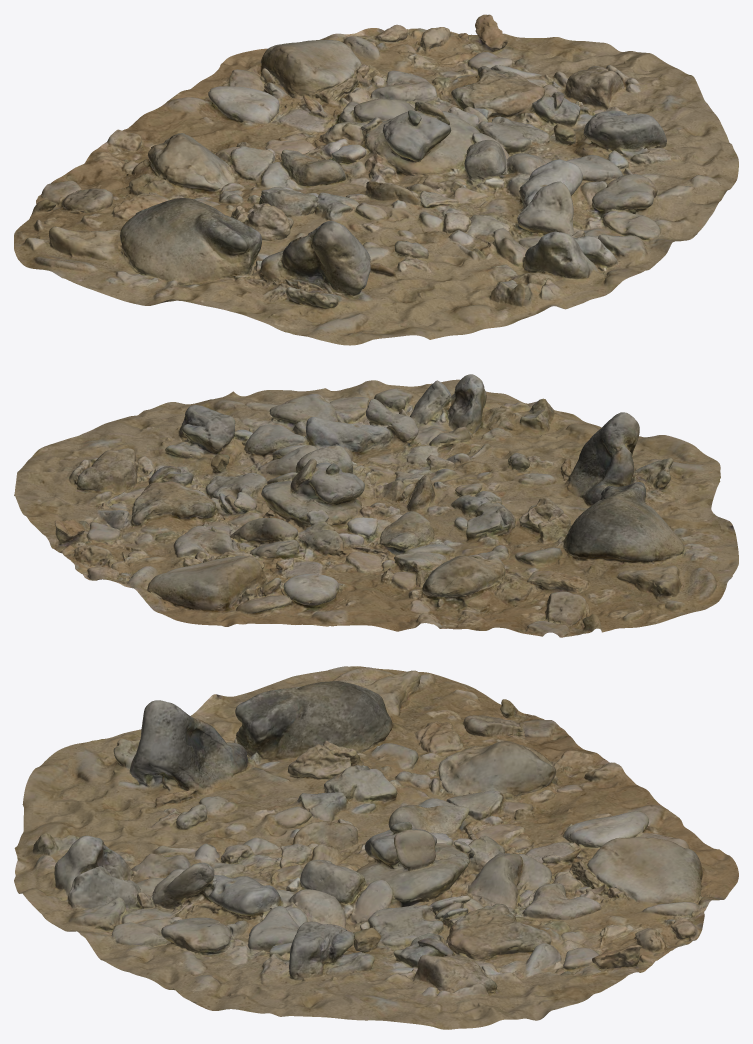
The model's file is sand_rocks_small_01.glb.
3 views of the same model, one above another, from view 1: azimuth 30°, elevation 25°; view 2: azimuth 150°, elevation 25°; view 3: azimuth 270°, elevation 25° (orthographic). The views are drawn at different scales.
Parts seen in each view (by area): view 1: sand_rocks_small_01_LOD0; view 2: sand_rocks_small_01_LOD0; view 3: sand_rocks_small_01_LOD0.
Boxes of the visible parts, x1,y1,x2,y2 form: sand_rocks_small_01_LOD0: [14, 14, 738, 345]; sand_rocks_small_01_LOD0: [14, 374, 738, 637]; sand_rocks_small_01_LOD0: [14, 666, 738, 1029].
Bounding box in the file's own units: 4.63 × 0.5348 × 3.88.
Materials: 1 (1 with a texture image).
